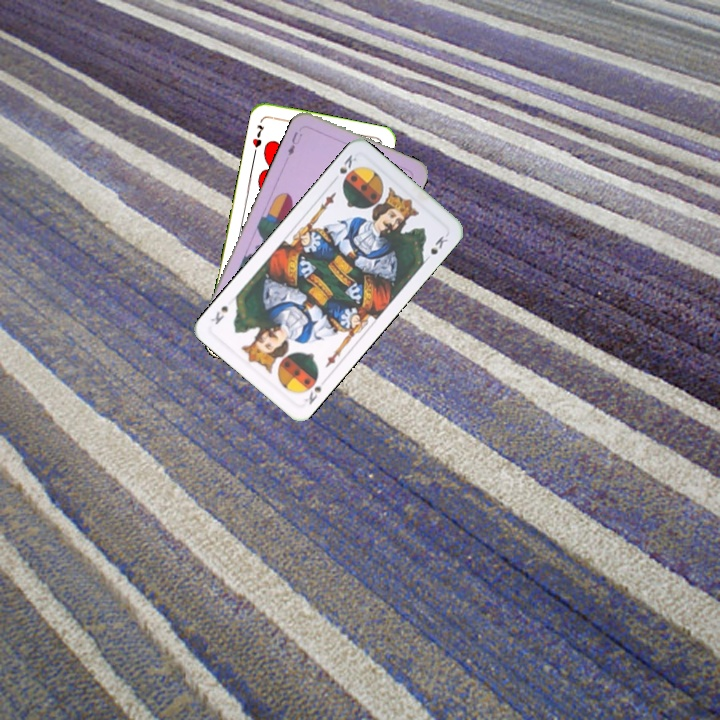EU: (283, 127, 305, 158)
H7: (248, 121, 267, 150)
SK: (328, 150, 359, 185), (300, 382, 324, 407)
